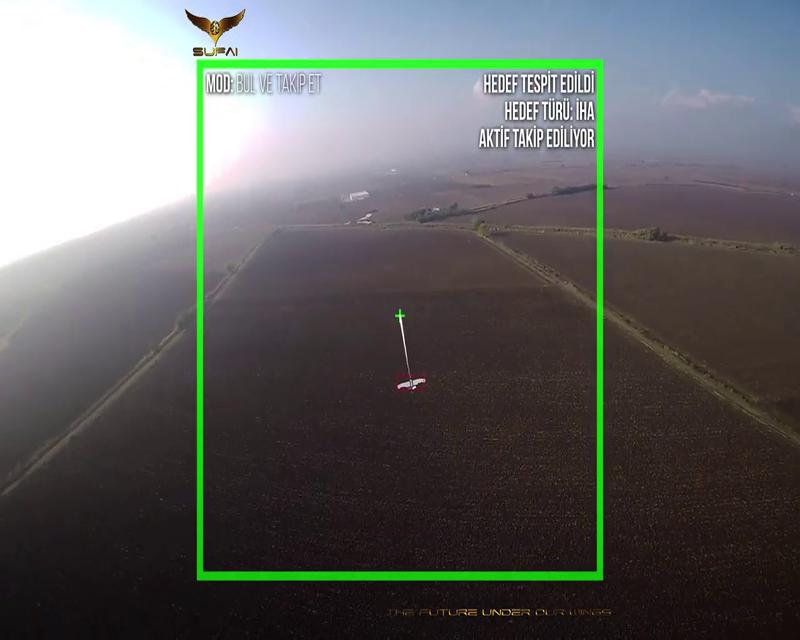UAV: (396, 376, 428, 392)
